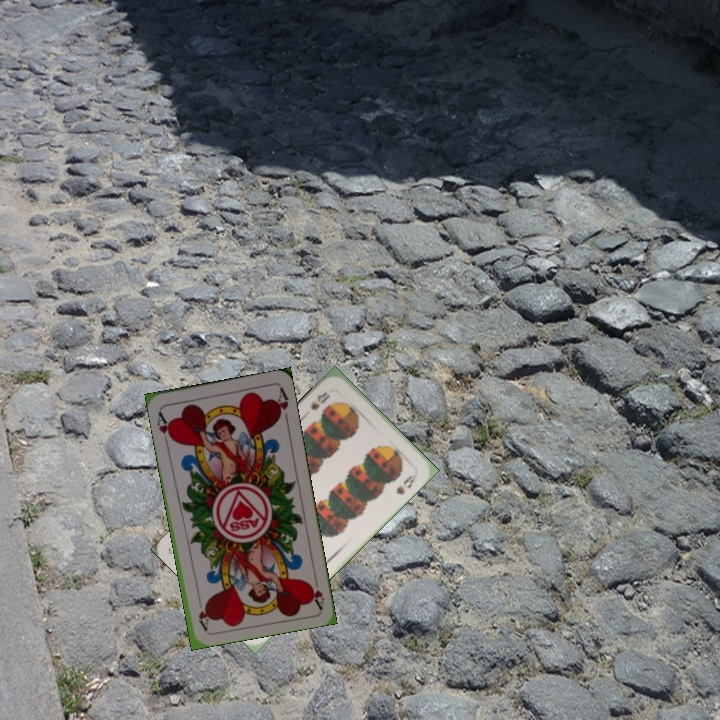HA: (153, 406, 176, 446), (305, 570, 327, 610)
S8: (306, 387, 333, 413)
